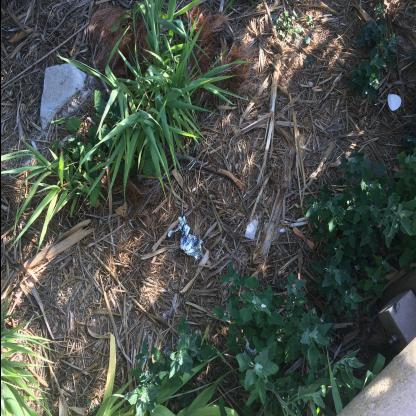kagit: (245, 220, 259, 241)
plastik: (168, 216, 204, 262)
